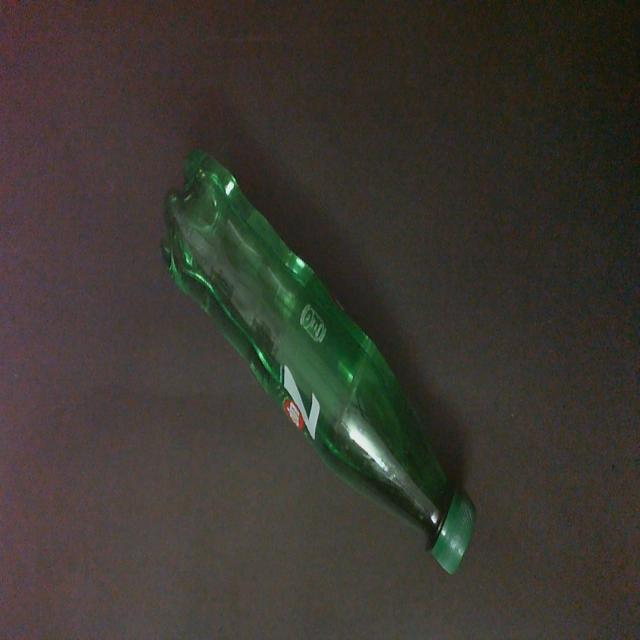non-defect: (156, 146, 478, 580)
